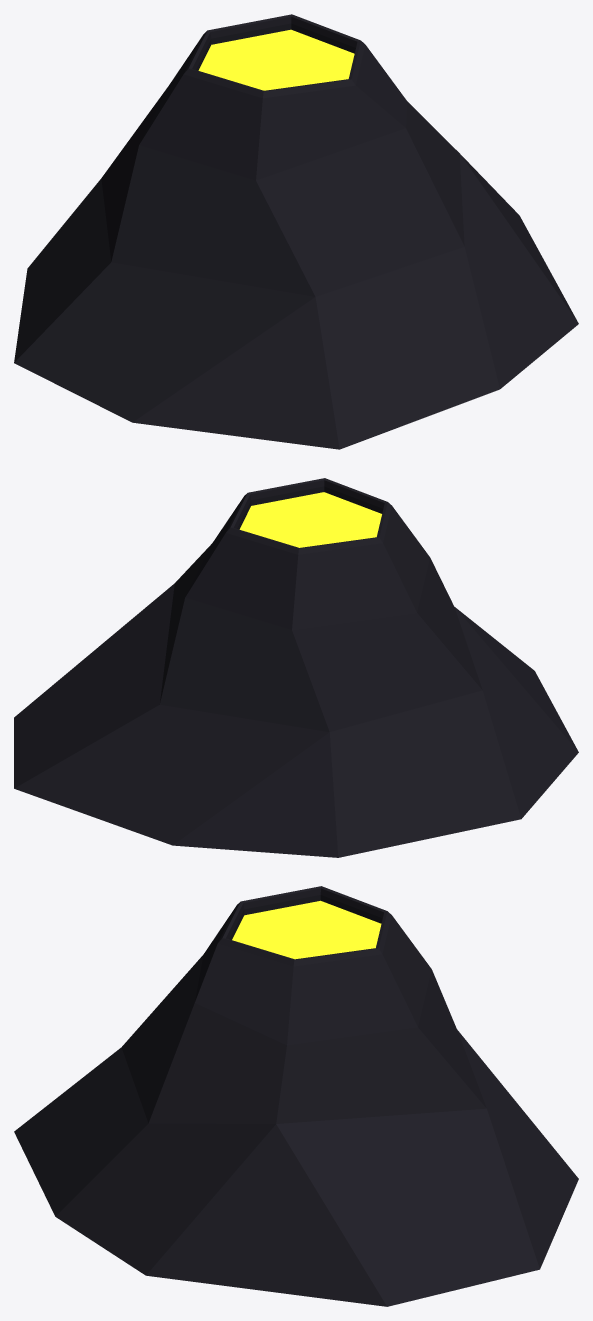
The model's file is Geyser 1.fbx.
The picture shows the model from 3 angles, top to bottom: view 1: azimuth 30°, elevation 25°; view 2: azimuth 150°, elevation 25°; view 3: azimuth 270°, elevation 25°; orthographic projection. The views are drawn at different scales.
Visible parts, largest first — view 1: Circle, Circle.001; view 2: Circle, Circle.001; view 3: Circle, Circle.001.
Boxes of the visible parts, bbox=[...] form: Circle: bbox=[14, 14, 578, 449]; Circle.001: bbox=[198, 29, 354, 90]; Circle: bbox=[14, 478, 578, 857]; Circle.001: bbox=[239, 492, 381, 547]; Circle: bbox=[14, 886, 578, 1306]; Circle.001: bbox=[232, 900, 381, 959].
Size of the model in its own units: 228 by 107 by 219.
